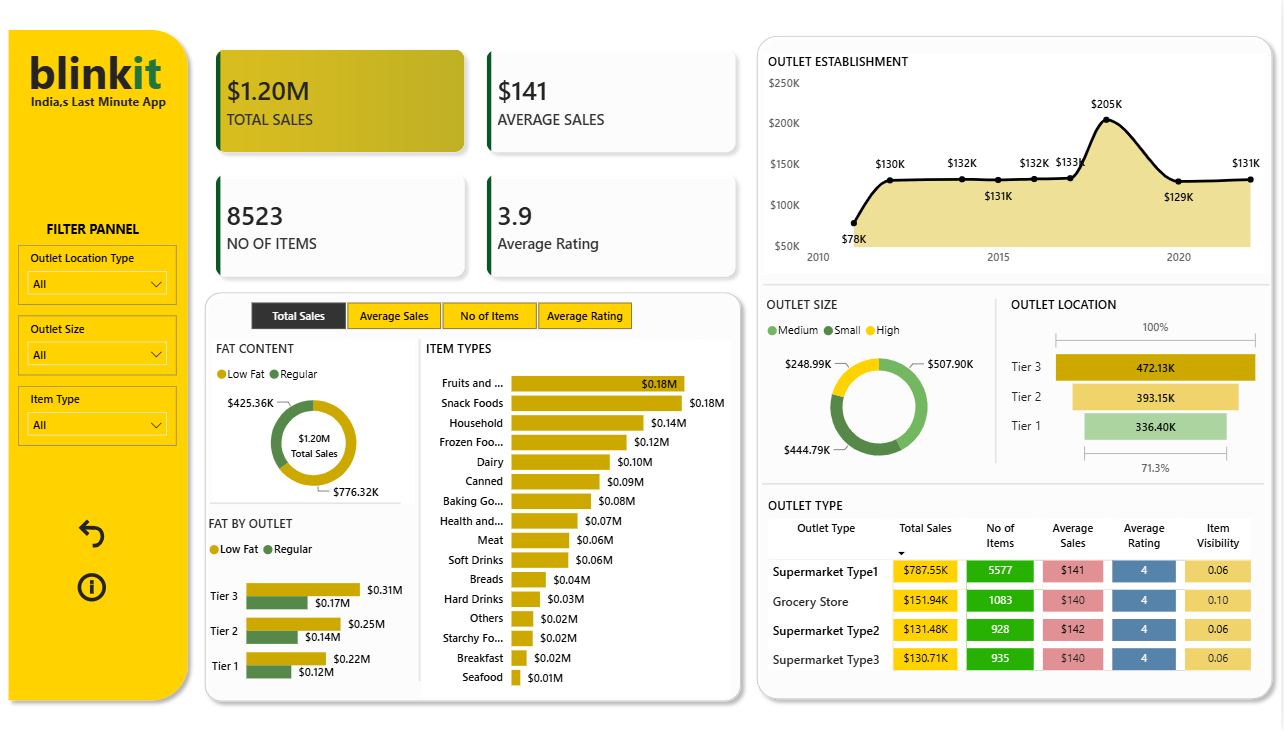

Layout of this report page (visuals, bound fields, positions):
{"tool":"powerbi","page":{"name":"Page 1","canvas":[1400,800],"ordinal":0},"visuals":[{"type":"shape","box":[0,24.5,214.3,751],"z":0},{"type":"textbox","box":[25.5,41.2,188.2,86.3],"z":1000},{"type":"textbox","box":[25.5,96.1,162.7,31.4],"z":2000},{"type":"cardVisual","fields":{"Data":["Table1.Total Sales","Table1.Average Sales","Table1.No of Items","Table1.Average Rating"]},"box":[205.9,25.5,627.5,307.8],"z":3000},{"type":"shape","box":[214.3,312.2,604.1,465.3],"z":4000},{"type":"donutChart","title":"FAT CONTENT","fields":{"Y":["Table1.Total Sales"],"Category":["Table1.Item Fat Content"]},"box":[230.6,371.4,222.4,179.6],"z":5000},{"type":"slicer","fields":{"Values":["Matrix.Matrix"]},"box":[248.4,324.6,465.4,43.1],"z":6000},{"type":"cardVisual","fields":{"Data":["Table1.Total Sales"]},"box":[287.8,455.1,110.2,65.3],"z":7000},{"type":"clusteredBarChart","title":"FAT BY OUTLET","fields":{"Y":["Table1.Total Sales"],"Category":["Table1.Outlet Location Type"],"Series":["Table1.Item Fat Content"]},"box":[223.3,563.3,221.7,200],"z":8000},{"type":"shape","box":[230,540,208.3,23.3],"z":9000},{"type":"shape","box":[438.3,371.7,41.7,373.3],"z":10000},{"type":"barChart","title":"ITEM TYPES","fields":{"Y":["Table1.Total Sales"],"Category":["Table1.Item Type"]},"box":[460.2,372.3,338.8,391.5],"z":11000},{"type":"shape","box":[818.1,32,581.6,743],"z":12000},{"type":"lineChart","title":"OUTLET ESTABLISHMENT","fields":{"Category":["Table1.Outlet Establishment Year"],"Y":["Table1.Total Sales"]},"box":[834.7,59.2,551,240.8],"z":13000},{"type":"shape","box":[832.7,520.4,549,20.4],"z":14000},{"type":"donutChart","title":"OUTLET SIZE","fields":{"Category":["Table1.Outlet Size"],"Y":["Table1.Total Sales"]},"box":[832.7,324.5,255.1,195.9],"z":15000},{"type":"shape","box":[1069.4,328.6,38.8,179.6],"z":16000},{"type":"funnel","title":"OUTLET LOCATION","fields":{"Y":["Sum(Table1.Sales)"],"Category":["Table1.Outlet Location Type"]},"box":[1100,324.5,281.6,202],"z":17000},{"type":"shape","box":[834.7,300,553.1,24.5],"z":18000},{"type":"pivotTable","title":"OUTLET TYPE","fields":{"Rows":["Table1.Outlet Type"],"Values":["Table1.Total Sales","Table1.No of Items","Table1.Average Sales","Table1.Average Rating","Avg(Table1.Item Visibility)"]},"box":[834.7,544.9,553.1,200],"z":19000},{"type":"slicer","fields":{"Values":["Table1.Outlet Location Type"]},"box":[20,268.3,173.3,65],"z":20000},{"type":"slicer","fields":{"Values":["Table1.Outlet Size"]},"box":[20,346.7,173.3,65],"z":21000},{"type":"slicer","fields":{"Values":["Table1.Item Type"]},"box":[20,423.3,173.3,65],"z":22000},{"type":"textbox","box":[20,236.7,163.3,28.3],"z":23000},{"type":"actionButton","box":[80,563.3,40,40],"z":24000},{"type":"actionButton","box":[80,623.3,40,40],"z":25000}]}

Visuals, with their boxes in screenshot pixels (x1, y1, x2, y2), scaled from the page's 1400x800 canvas onto the 1284x730 screenshot:
shape: 0, 22, 197, 708
textbox: 23, 38, 196, 116
textbox: 23, 88, 173, 116
cardVisual - Table1.Total Sales x Table1.Average Sales: 189, 23, 764, 304
shape: 197, 285, 751, 709
"FAT CONTENT" donutChart: 211, 339, 415, 503
slicer - Matrix.Matrix: 228, 296, 655, 336
cardVisual - Table1.Total Sales: 264, 415, 365, 475
"FAT BY OUTLET" clusteredBarChart: 205, 514, 408, 697
shape: 211, 493, 402, 514
shape: 402, 339, 440, 680
"ITEM TYPES" barChart: 422, 340, 733, 697
shape: 750, 29, 1283, 707
"OUTLET ESTABLISHMENT" lineChart: 766, 54, 1271, 274
shape: 764, 475, 1267, 493
"OUTLET SIZE" donutChart: 764, 296, 998, 475
shape: 981, 300, 1016, 464
"OUTLET LOCATION" funnel: 1009, 296, 1267, 480
shape: 766, 274, 1273, 296
"OUTLET TYPE" pivotTable: 766, 497, 1273, 680
slicer - Table1.Outlet Location Type: 18, 245, 177, 304
slicer - Table1.Outlet Size: 18, 316, 177, 376
slicer - Table1.Item Type: 18, 386, 177, 446
textbox: 18, 216, 168, 242
actionButton: 73, 514, 110, 551
actionButton: 73, 569, 110, 605
